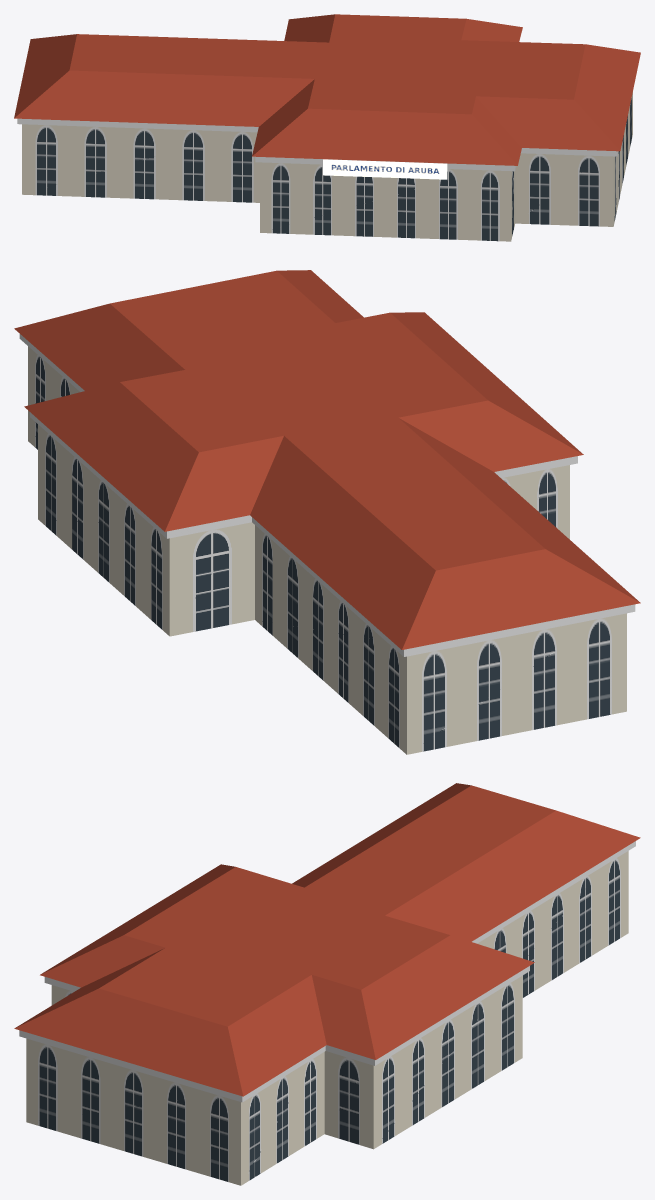
File: gova77053638.glb
The picture shows the model from 3 angles, top to bottom: view 1: azimuth 30°, elevation 25°; view 2: azimuth 150°, elevation 25°; view 3: azimuth 270°, elevation 25°; orthographic projection. The views are drawn at different scales.
Visible parts, largest first — view 1: gova77053638_lod0; view 2: gova77053638_lod0; view 3: gova77053638_lod0.
Part boxes in pixels (left/top/right/bottom): gova77053638_lod0: left=14, top=14, right=640, bottom=241; gova77053638_lod0: left=14, top=270, right=640, bottom=754; gova77053638_lod0: left=14, top=783, right=640, bottom=1185.
Size of what is drawn, in the model's own units: 49.78 by 9.5 by 42.07.
4 materials, 2 textured.
